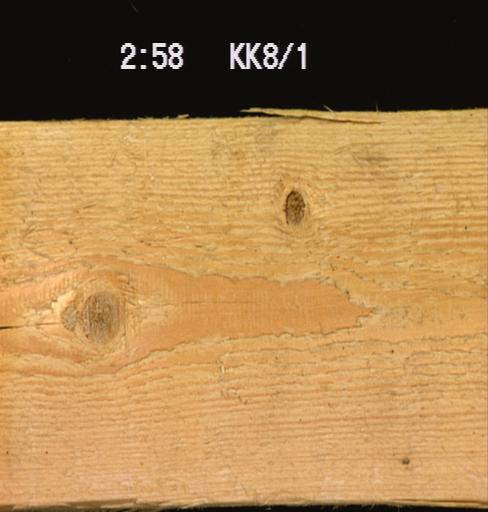dry_knot: (283, 189, 305, 226)
sound_knot: (77, 289, 121, 343)
split: (0, 320, 65, 331)
